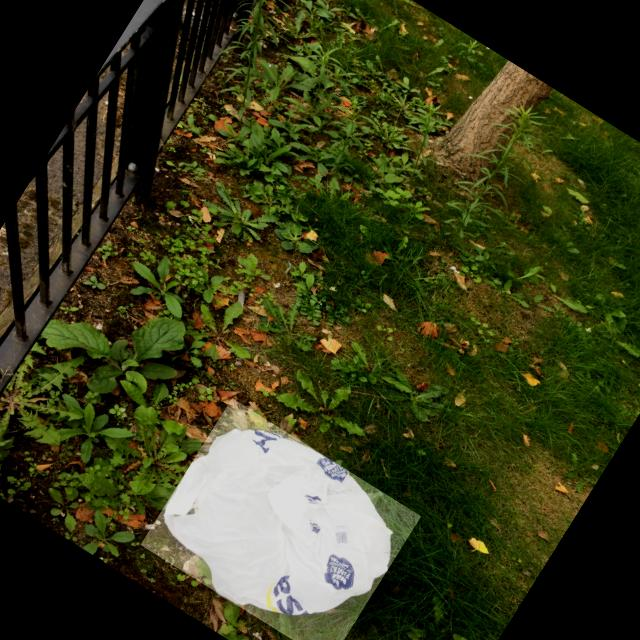Single-use carrier bag: (164, 429, 392, 616)
